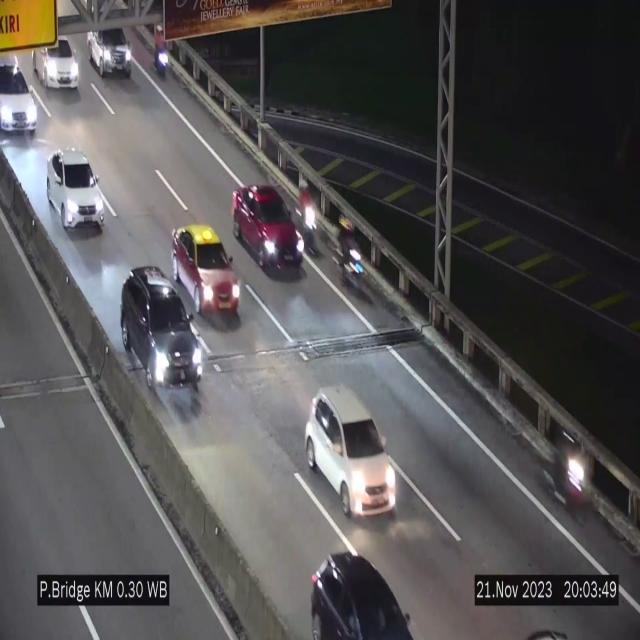Car: (305, 387, 396, 519), (118, 264, 204, 393), (307, 542, 419, 640), (232, 184, 304, 276), (172, 225, 240, 322), (44, 145, 106, 233), (0, 57, 36, 141), (31, 37, 82, 93), (88, 26, 132, 78)
Motorcycle: (540, 421, 586, 521), (338, 220, 368, 294), (297, 182, 321, 262), (153, 24, 170, 81)
